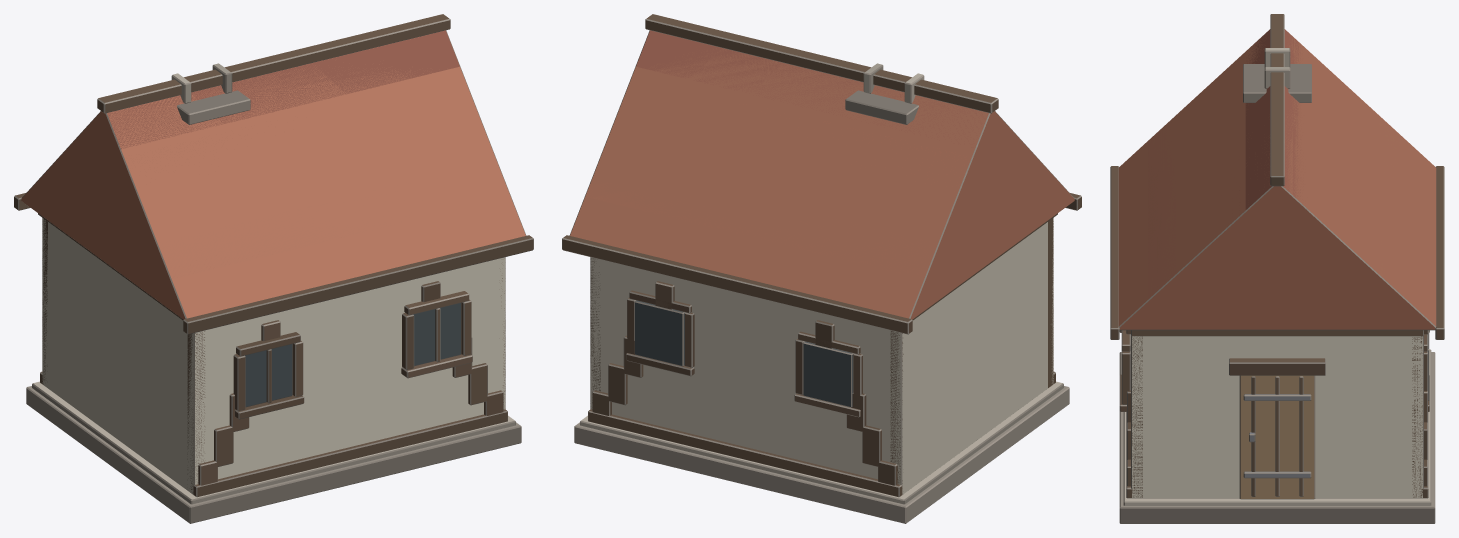
File: SM_Kit_casa_a.fbx
3 views of the same model, side by side, from view 1: azimuth 30°, elevation 25°; view 2: azimuth 150°, elevation 25°; view 3: azimuth 270°, elevation 25° (orthographic). The views are drawn at different scales.
Parts seen in each view (by area): view 1: SM_Kit_casa_a; view 2: SM_Kit_casa_a; view 3: SM_Kit_casa_a.
Boxes of the visible parts, <box> form: SM_Kit_casa_a: <box>14,14,533,523</box>; SM_Kit_casa_a: <box>562,14,1081,523</box>; SM_Kit_casa_a: <box>1110,14,1444,523</box>.
Size of what is drawn, in the model's own units: 578 by 586 by 502.
